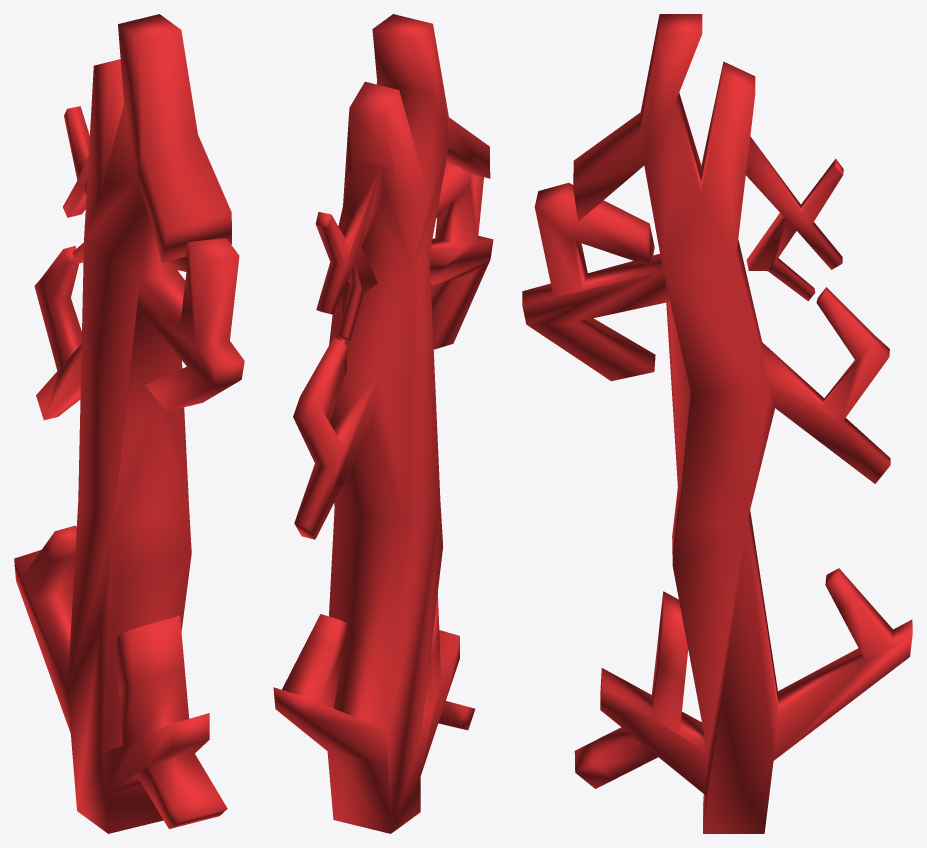
File: Coral3_rojo.glb
3 views of the same model, side by side, from view 1: azimuth 30°, elevation 25°; view 2: azimuth 150°, elevation 25°; view 3: azimuth 270°, elevation 25° (orthographic). The views are drawn at different scales.
Parts seen in each view (by area): view 1: Cube.002; view 2: Cube.002; view 3: Cube.002.
Boxes of the visible parts, x1=… form: Cube.002: x1=14, y1=14, x2=244, y2=833; Cube.002: x1=273, y1=14, x2=493, y2=833; Cube.002: x1=522, y1=14, x2=912, y2=833.
Bounding box in the file's own units: 0.613 × 6.1 × 2.71.
